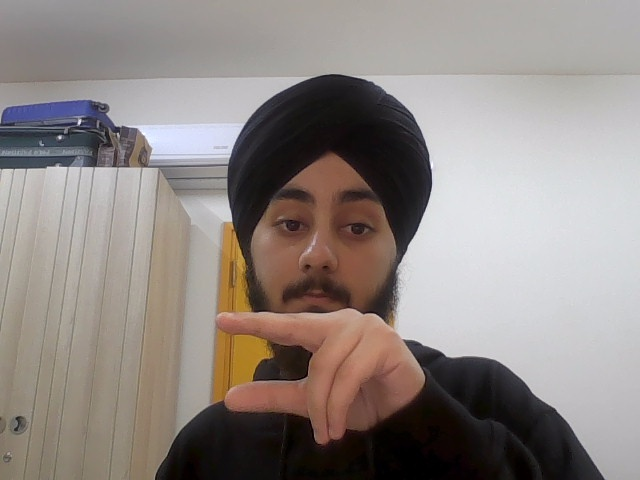No: (212, 303, 428, 444)
